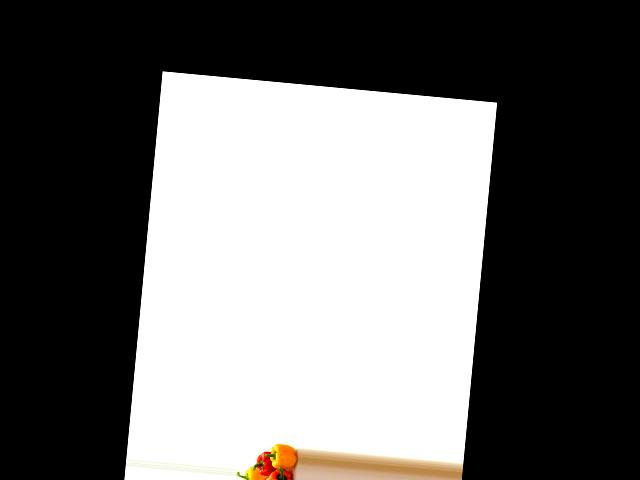bell_pepper: (263, 442, 298, 477)
